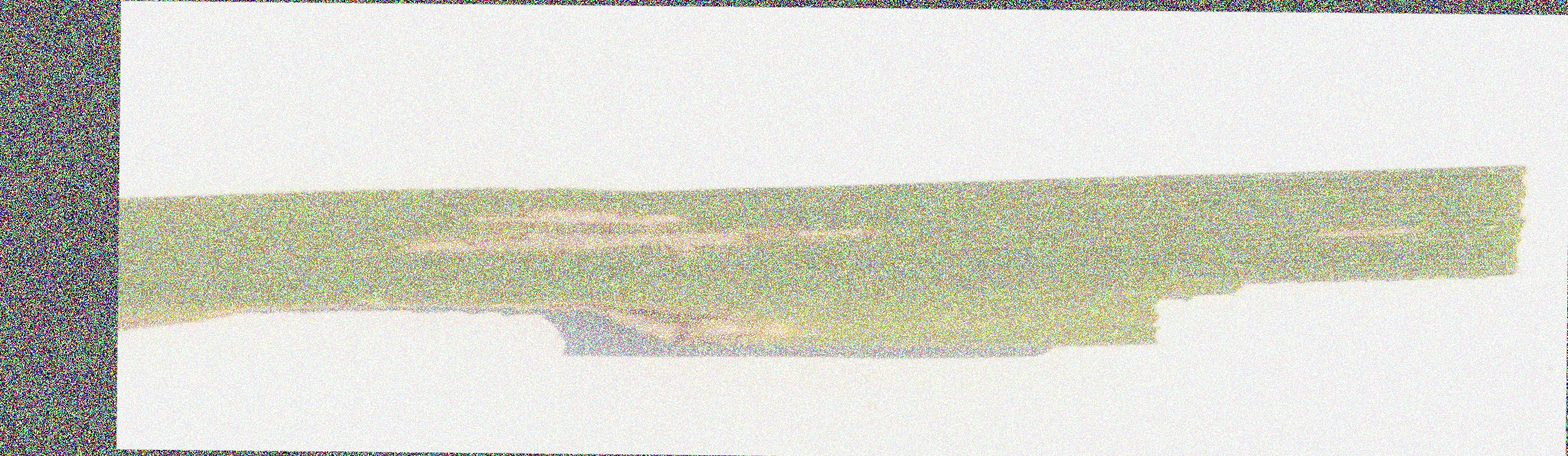Leaf_Blast: (368, 193, 957, 269), (1269, 195, 1483, 266)
